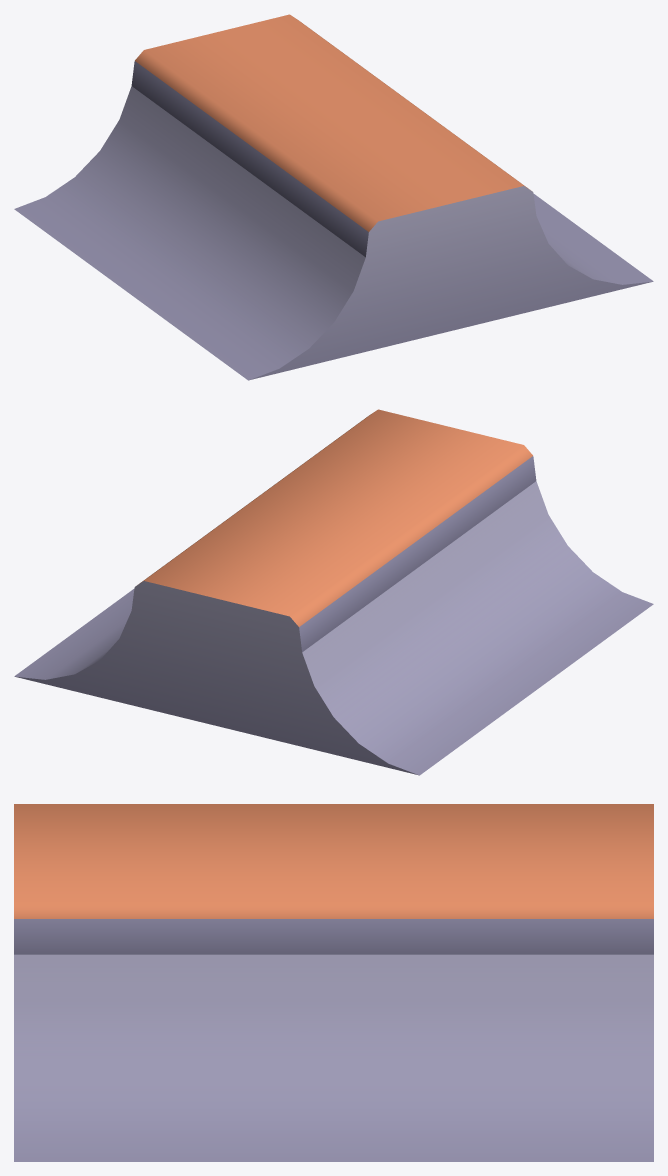
Rendered from obstacle-middle.glb.
3 views of the same model, one above another, from view 1: azimuth 30°, elevation 25°; view 2: azimuth 150°, elevation 25°; view 3: azimuth 270°, elevation 25° (orthographic). The views are drawn at different scales.
Visible parts, largest first — view 1: obstacle-middle; view 2: obstacle-middle; view 3: obstacle-middle.
Part boxes in pixels (bbox=[...]): obstacle-middle: bbox=[14, 14, 653, 380]; obstacle-middle: bbox=[14, 409, 653, 775]; obstacle-middle: bbox=[14, 804, 653, 1161].
Bounding box in the file's own units: 1 × 0.3 × 1.
Materials: 1 (1 with a texture image).
